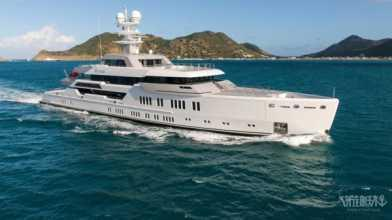yacht: (39, 8, 348, 145)
